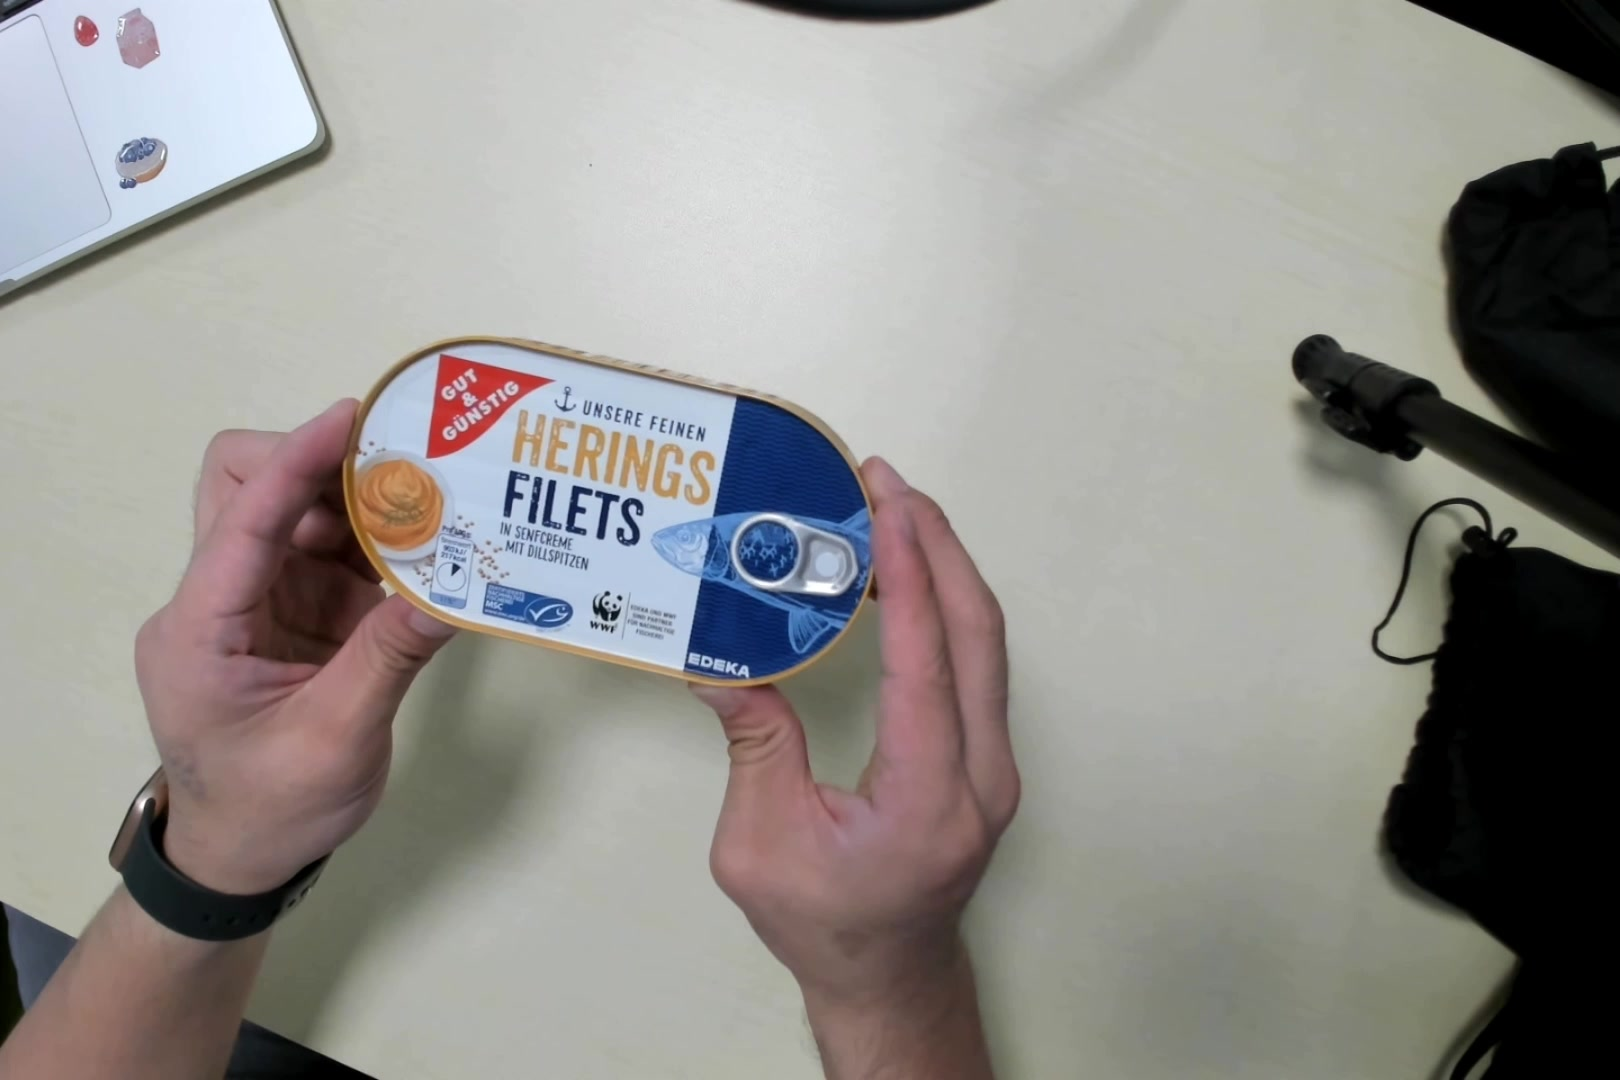OtherCannedSeafood_100-199g_Halal_NonHealthy: (352, 322, 877, 692)
